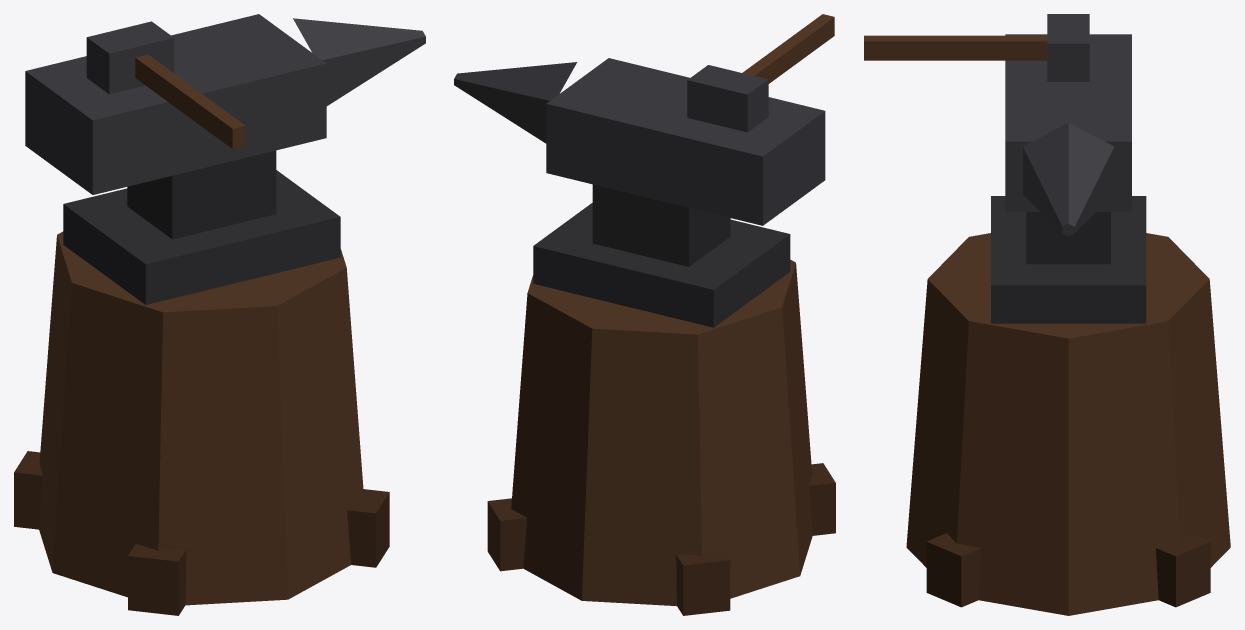
Rendered from anvil.glb.
3 views of the same model, side by side, from view 1: azimuth 30°, elevation 25°; view 2: azimuth 150°, elevation 25°; view 3: azimuth 270°, elevation 25° (orthographic). The views are drawn at different scales.
Visible parts, largest first — view 1: anvil; view 2: anvil; view 3: anvil.
Boxes of the visible parts, box(x1,y1,x2,y2) form: anvil: box(14, 14, 425, 615); anvil: box(454, 14, 835, 615); anvil: box(864, 14, 1230, 615).
Bounding box in the file's own units: 0.57 × 0.76 × 0.52.
